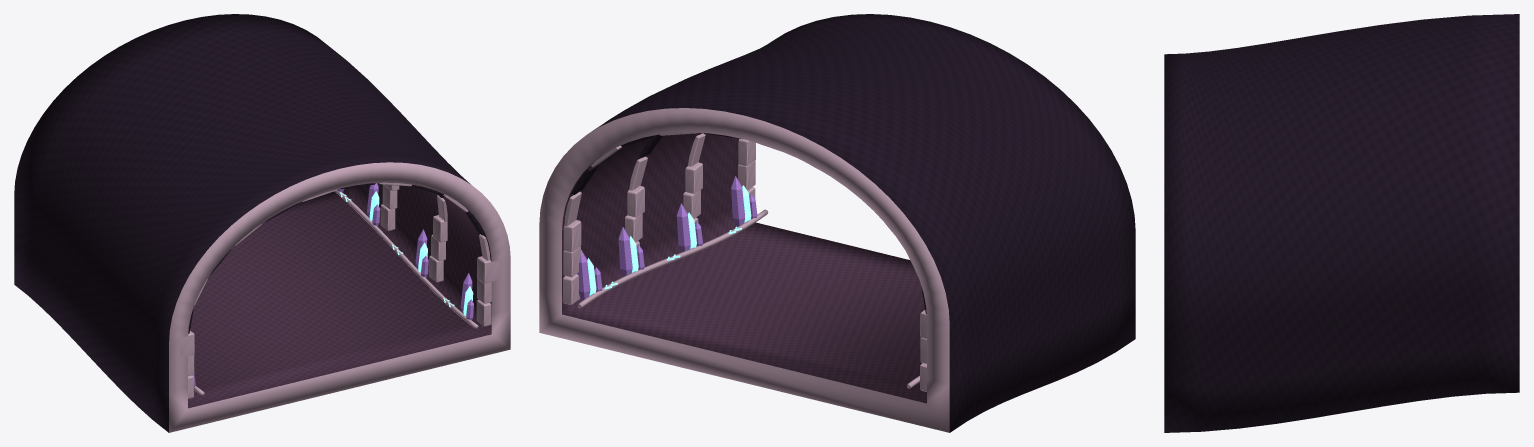
Rendered from grade_up_lod1.glb.
3 renders of one model, left to right at view 1: azimuth 30°, elevation 25°; view 2: azimuth 150°, elevation 25°; view 3: azimuth 270°, elevation 25°, orthographic. The views are drawn at different scales.
Visible parts, largest first — view 1: TunnelGeometry.001; view 2: TunnelGeometry.001; view 3: TunnelGeometry.001.
Boxes of the visible parts, box(x1,y1,x2,y2) form: TunnelGeometry.001: box(14, 14, 510, 432); TunnelGeometry.001: box(539, 14, 1135, 432); TunnelGeometry.001: box(1164, 14, 1519, 432).
Size of the model in its own units: 15.3 by 11.02 by 12.
5 materials, 2 textured.
